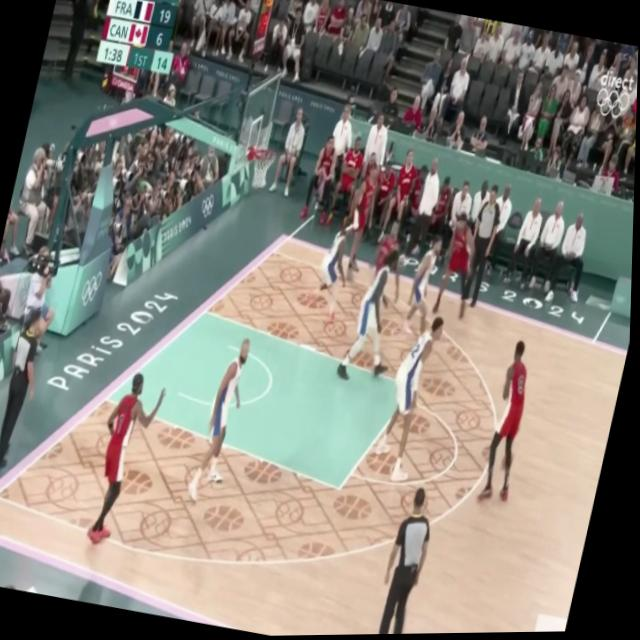ball_handler: (480, 339, 545, 507)
